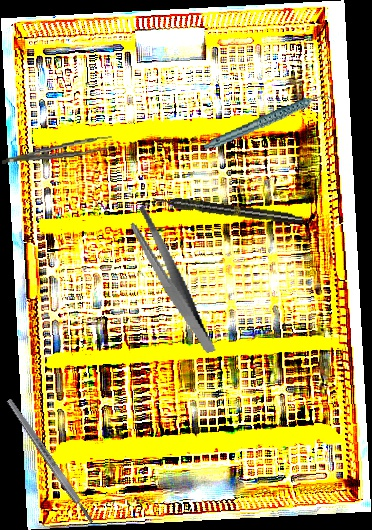Dressing Forceps: (127, 197, 216, 364)
Handpiece: (198, 92, 337, 151), (151, 192, 304, 227)
Scalpel Handle: (5, 397, 96, 525)
Tissue Forceps: (0, 136, 114, 164)
